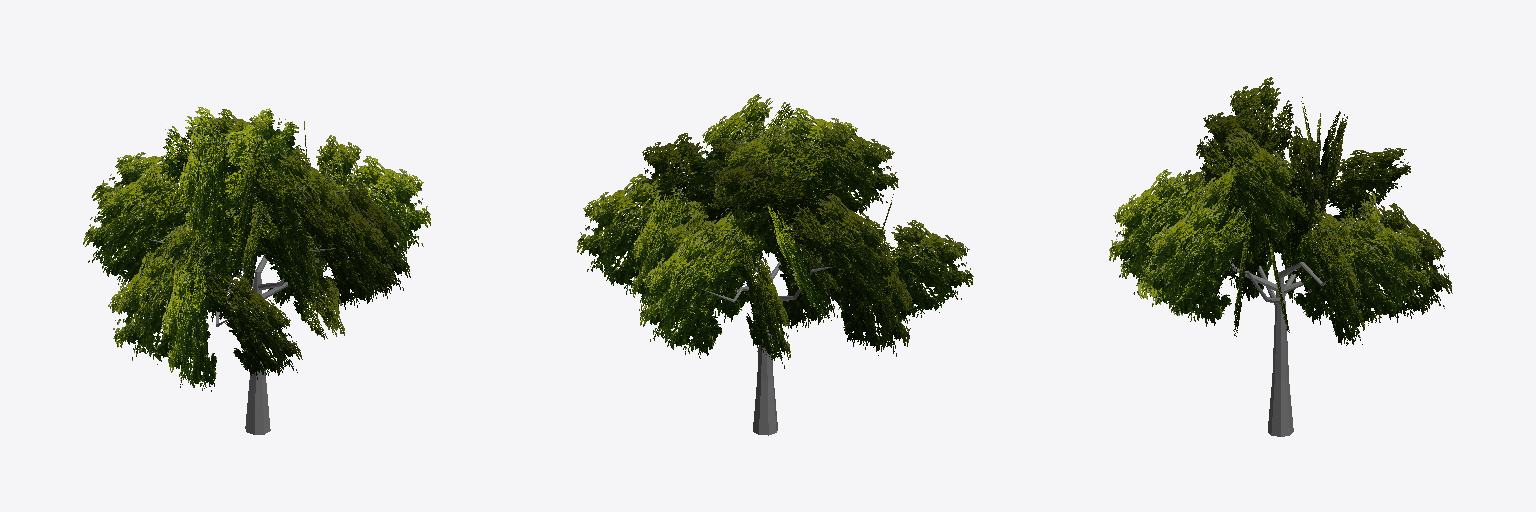
The picture shows the model from 3 angles: view 1: azimuth 30°, elevation 25°; view 2: azimuth 150°, elevation 25°; view 3: azimuth 270°, elevation 25°; orthographic projection.
Visible parts, largest first — view 1: Plane011, Plane010, Plane012, Plane006, Plane021, Plane029, Plane023, Plane017, Plane009, Plane019, Plane016, Plane022 (+8 smaller); view 2: Plane008, Plane011, Plane007, Plane029, Plane023, Plane028, Plane030, Plane012, Plane018, Plane025, Plane016, Plane009 (+7 smaller); view 3: Plane022, Plane027, Plane025, Plane010, tronco, Plane024, Plane007, Plane008, Plane014, Plane019, Plane029, Plane020 (+4 smaller).
Boxes of the visible parts, box(x1,y1,x2,y2) form: Plane011: box(83, 165, 190, 284); Plane010: box(301, 190, 394, 309); Plane012: box(108, 245, 211, 364); Plane006: box(204, 271, 302, 379); Plane021: box(255, 147, 347, 265); Plane029: box(179, 126, 234, 251); Plane023: box(161, 262, 216, 391); Plane017: box(258, 231, 344, 339); Plane009: box(330, 156, 430, 265); Plane019: box(223, 108, 304, 208); Plane016: box(154, 207, 265, 321); Plane022: box(327, 181, 410, 300); Plane008: box(640, 231, 741, 358); Plane011: box(796, 193, 899, 319); Plane007: box(577, 174, 691, 301); Plane029: box(788, 123, 898, 224); Plane023: box(867, 220, 973, 322); Plane028: box(714, 125, 825, 256); Plane030: box(710, 156, 811, 254); Plane012: box(841, 243, 914, 356); Plane018: box(739, 242, 790, 368); Plane025: box(632, 192, 683, 310); Plane016: box(772, 208, 840, 331); Plane009: box(641, 133, 710, 223); Plane022: box(1141, 200, 1252, 326); Plane027: box(1200, 129, 1306, 258); Plane025: box(1313, 212, 1429, 330); Plane010: box(1109, 169, 1208, 291); tronco: box(1231, 262, 1331, 436); Plane024: box(1312, 148, 1410, 223); Plane007: box(1315, 222, 1364, 345); Plane008: box(1354, 203, 1452, 322); Plane014: box(1274, 199, 1372, 324); Plane019: box(1283, 126, 1323, 258); Plane029: box(1223, 77, 1293, 153); Plane020: box(1196, 108, 1285, 176).
Size of the model in its own units: 181 by 173 by 175.
Materials: 2 (1 with a texture image).